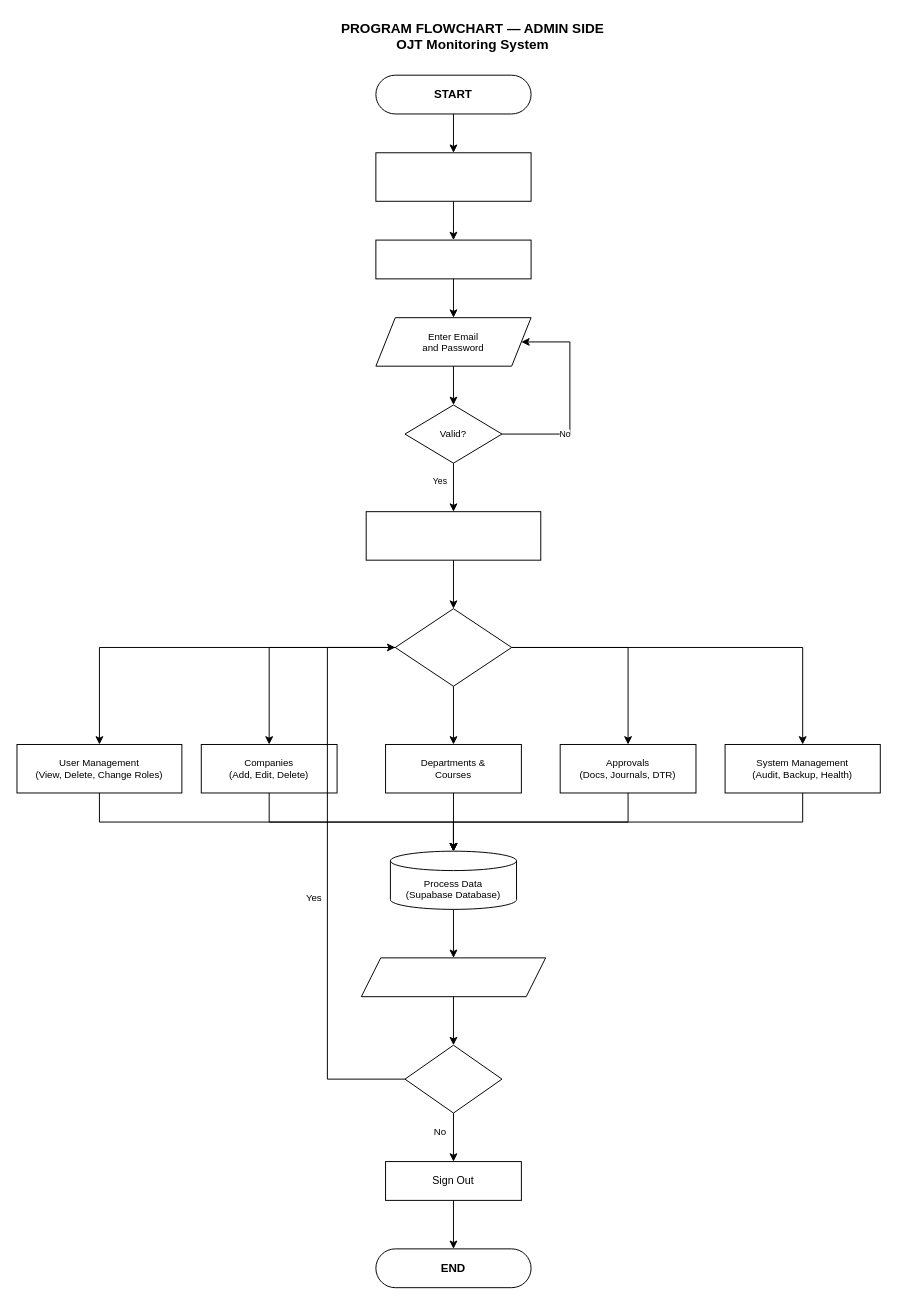
This 897x1305 diagram has some shape labels left out. The centre of each missing label's shape, as x and y in pixels:
"Admin Dashboard (Overview)" goes at (453,535).
"Continue?" goes at (453,1078).
"Display Result to Admin" goes at (453,977).
"Open Website (Landing Page)" goes at (453,176).
"Select Admin Portal" goes at (453,259).
"Select Module" goes at (453,647).
